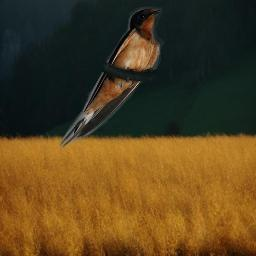Swallow: (55, 5, 165, 148)
